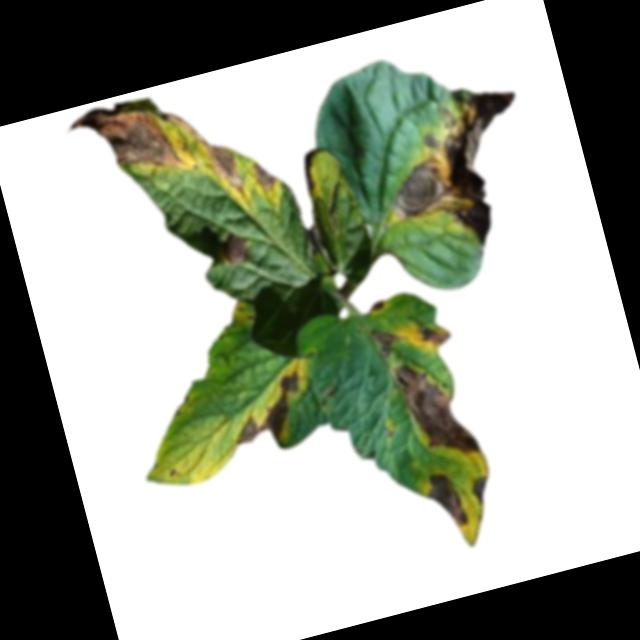Early_blight: (370, 79, 547, 244), (68, 78, 248, 228), (389, 347, 483, 468), (220, 364, 317, 450), (420, 465, 469, 535), (216, 228, 254, 267), (417, 318, 453, 351), (369, 324, 401, 359), (252, 155, 281, 192), (467, 473, 495, 507), (367, 298, 387, 314)
